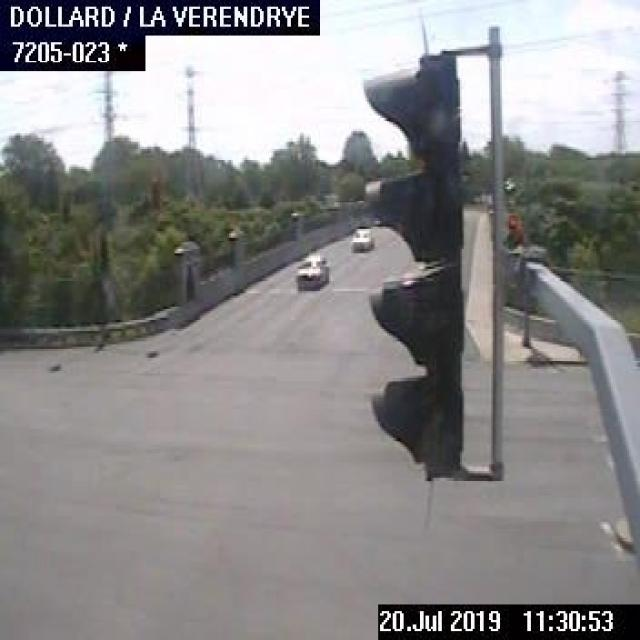vehicle: (295, 253, 327, 289), (347, 226, 373, 252)
